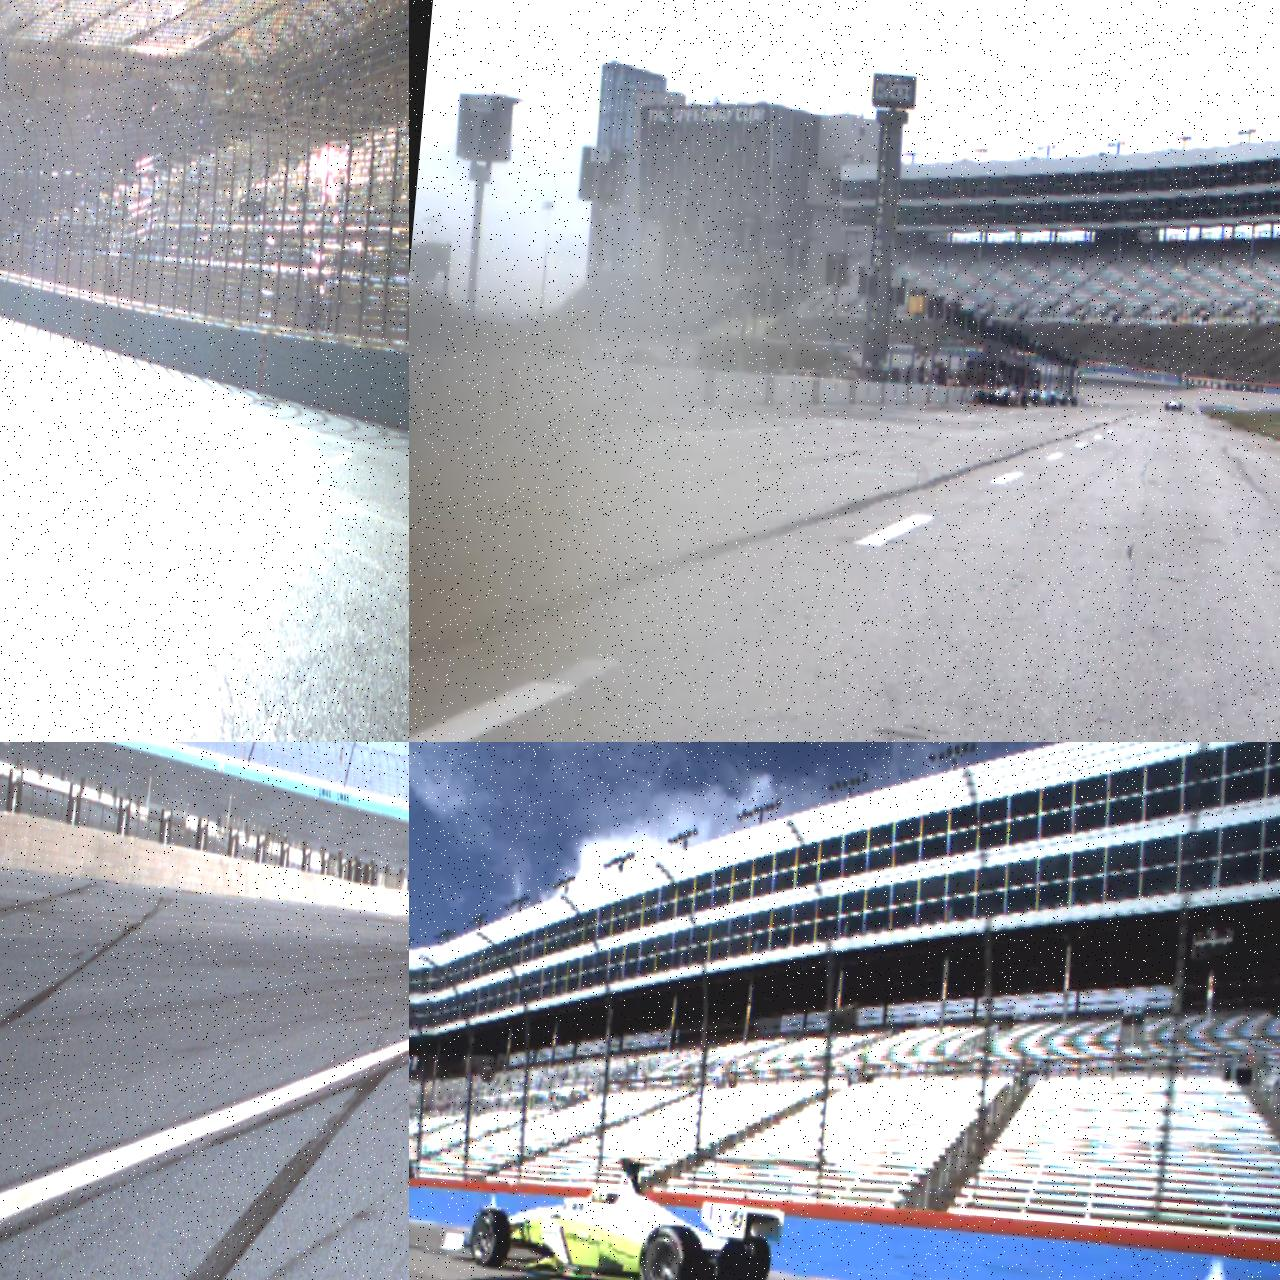AV: (437, 1143, 789, 1280), (1165, 395, 1183, 411)
Wheel: (636, 1223, 704, 1280), (469, 1207, 513, 1269), (734, 1235, 772, 1280), (1002, 390, 1012, 407), (978, 392, 987, 404), (1021, 392, 1028, 408), (1032, 393, 1040, 407), (1061, 395, 1068, 407), (1050, 395, 1057, 406), (1071, 397, 1077, 408), (1164, 402, 1170, 410), (1179, 403, 1183, 411)
